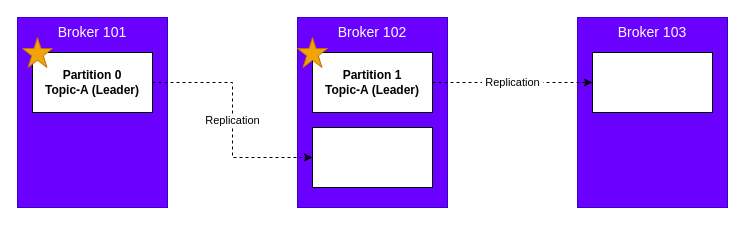
This 745x225 diagram has some shape labels left out. Each missing label, with the centre of its shape:
"Partition 0 Topic-A (ISR)" belongs at (x=372, y=157).
"Partition 1 Topic-A (ISR)" belongs at (x=652, y=82).
